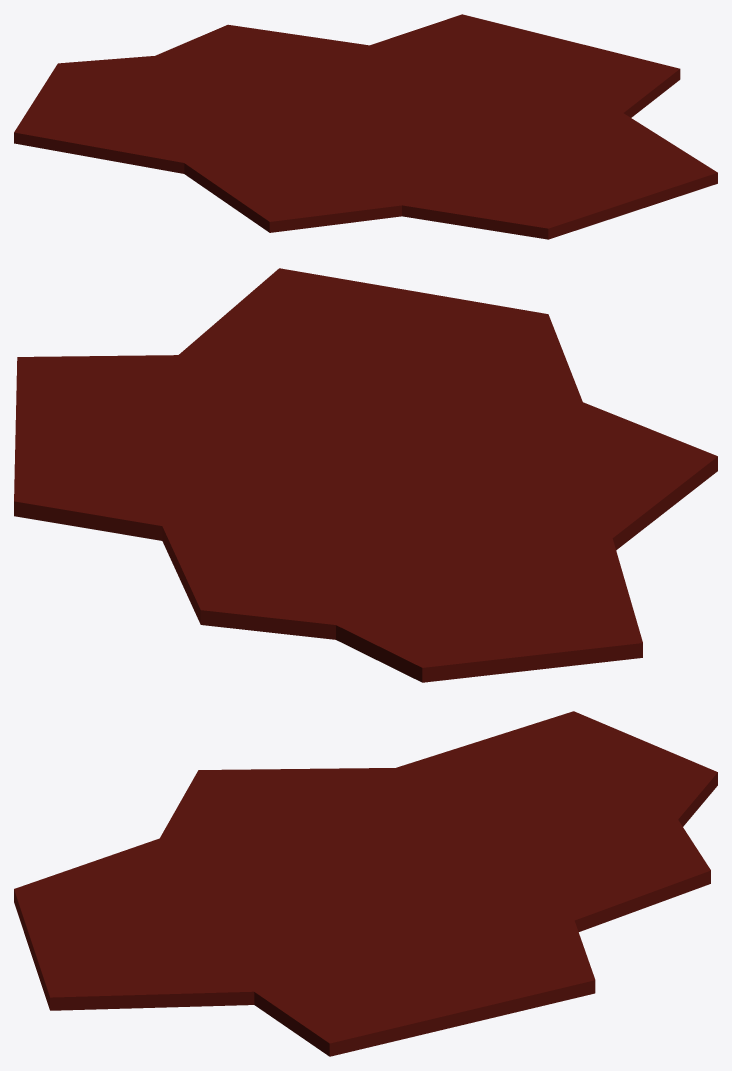
The model's file is Debris.fbx.
3 views of the same model, one above another, from view 1: azimuth 30°, elevation 25°; view 2: azimuth 150°, elevation 25°; view 3: azimuth 270°, elevation 25° (orthographic). The views are drawn at different scales.
Parts seen in each view (by area): view 1: Plane.003; view 2: Plane.003; view 3: Plane.003.
Part boxes in pixels (x1,y1,x2,y2): Plane.003: [14, 14, 717, 239]; Plane.003: [14, 268, 717, 682]; Plane.003: [14, 711, 717, 1056].
Bounding box in the file's own units: 804 × 14.94 × 719.
